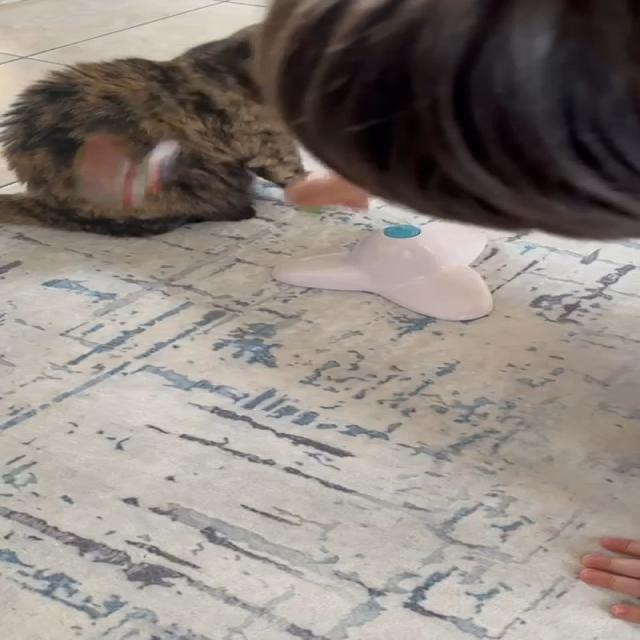authorized: (0, 0, 639, 241), (0, 20, 311, 238)
